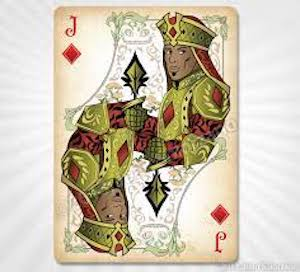JackOfDiamonds: (47, 3, 246, 267)
